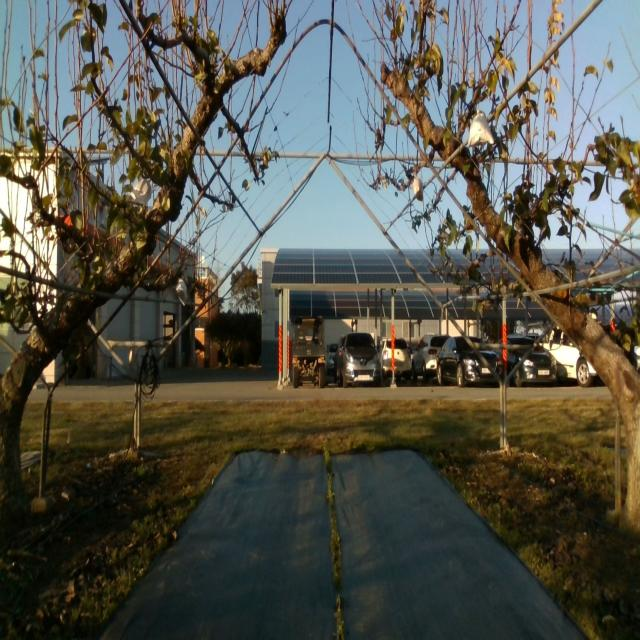pearbags: (466, 109, 494, 146), (128, 177, 152, 206), (411, 170, 424, 199), (175, 278, 187, 306)
